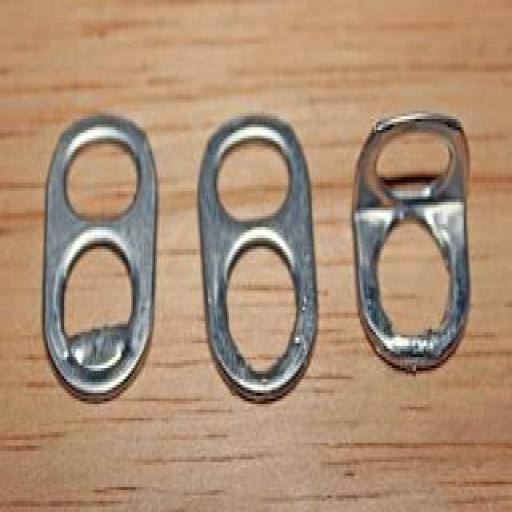pop tab: (197, 113, 319, 406), (40, 111, 159, 405), (350, 113, 470, 376)
